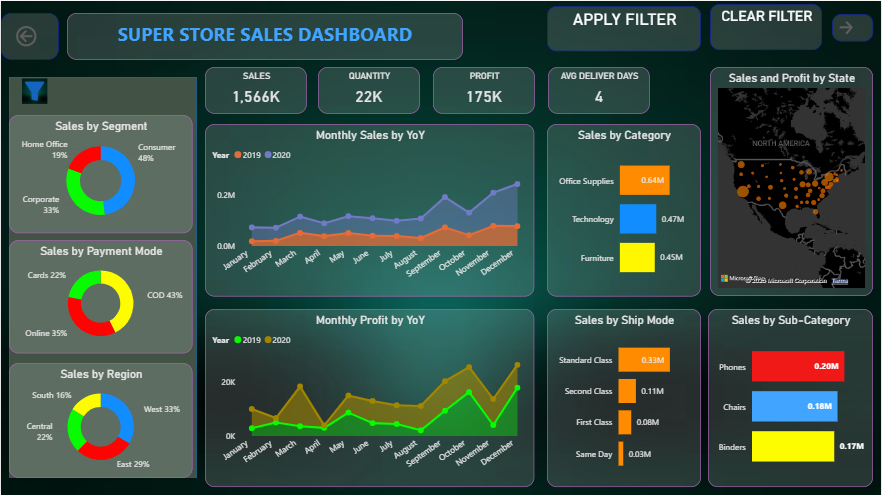

The page's visual inventory and layout, read from the dashboard file:
{"tool":"powerbi","page":{"name":"DETAIL SALES ANALYSE","canvas":[1280,720],"ordinal":2},"visuals":[{"type":"shape","title":"SHAPE FILTER","box":[11.7,110,273.3,583.3],"z":0,"group":"g1"},{"type":"clusteredBarChart","title":"Sales by Category","fields":{"Category":["SuperStore_Sales_Dataset.Category"],"Y":["Sum(SuperStore_Sales_Dataset.Sales)"]},"box":[794.7,178.7,223.7,251.4],"z":0},{"type":"slicer","title":"REGION","fields":{"Values":["SuperStore_Sales_Dataset.Region"]},"box":[23.4,165,248.3,175],"z":1000,"group":"g1"},{"type":"clusteredBarChart","title":"Sales by Sub-Category","fields":{"Category":["SuperStore_Sales_Dataset.Sub-Category"],"Y":["Sum(SuperStore_Sales_Dataset.Sales)"]},"box":[1028.6,447.5,239.7,258.6],"z":1000},{"type":"clusteredBarChart","title":"Sales by Ship Mode","fields":{"Category":["SuperStore_Sales_Dataset.Ship Mode"],"Y":["Sum(SuperStore_Sales_Dataset.Sales)"]},"box":[794.7,447.5,223.7,258.6],"z":2000},{"type":"slicer","title":"SUB-CATEGORY","fields":{"Values":["SuperStore_Sales_Dataset.Sub-Category"]},"box":[23.4,560,248.3,121.7],"z":2000,"group":"g1"},{"type":"slicer","title":"CATEGORY","fields":{"Values":["SuperStore_Sales_Dataset.Category"]},"box":[23.4,360,248.3,180],"z":3000,"group":"g1"},{"type":"stackedAreaChart","title":"Monthly Profit by YoY","fields":{"Category":["SuperStore_Sales_Dataset.Order Date.Variation.Date Hierarchy.Month","SuperStore_Sales_Dataset.Order Date.Variation.Date Hierarchy.Day"],"Series":["SuperStore_Sales_Dataset.Order Date.Variation.Date Hierarchy.Year"],"Y":["Sum(SuperStore_Sales_Dataset.Profit)"]},"box":[296.4,447.5,479.5,258.6],"z":3000},{"type":"image","title":"FILTER CLOSE BUTTON","box":[225,117.1,47.1,38.6],"z":4000,"group":"g1"},{"type":"stackedAreaChart","title":"Monthly Sales by YoY","fields":{"Y":["Sum(SuperStore_Sales_Dataset.Sales)"],"Category":["SuperStore_Sales_Dataset.Order Date.Variation.Date Hierarchy.Month","SuperStore_Sales_Dataset.Order Date.Variation.Date Hierarchy.Day"],"Series":["SuperStore_Sales_Dataset.Order Date.Variation.Date Hierarchy.Year"]},"box":[296.4,178.7,479.5,251.4],"z":4000},{"type":"map","title":"Sales and Profit by State","fields":{"Category":["SuperStore_Sales_Dataset.State"],"Size":["Sum(SuperStore_Sales_Dataset.Sales)"]},"box":[1031.7,96.7,236.7,333.3],"z":5000},{"type":"textbox","box":[96.5,18.1,575.9,67.8],"z":6000},{"type":"card","title":"SALES","fields":{"Values":["Sum(SuperStore_Sales_Dataset.Sales)"]},"box":[296.7,96.7,148.3,68.3],"z":7000},{"type":"card","title":"QUANTITY","fields":{"Values":["Sum(SuperStore_Sales_Dataset.Quantity)"]},"box":[461.7,96.7,148.3,68.3],"z":8000},{"type":"card","title":"PROFIT","fields":{"Values":["Sum(SuperStore_Sales_Dataset.Profit)"]},"box":[628.3,96.7,148.3,68.3],"z":9000},{"type":"card","title":"AVG DELIVER DAYS","fields":{"Values":["Avg(SuperStore_Sales_Dataset.AVG DELIVERY DATE)"]},"box":[795,96.7,148.3,68.3],"z":10000},{"type":"actionButton","box":[0,18.1,84.4,67.8],"z":11000},{"type":"actionButton","box":[1208.3,18.3,60,40],"z":12000},{"type":"actionButton","title":"CLEAR FILTER","box":[1031.7,5,163.3,66.7],"z":13000},{"type":"group","id":"g1","title":"FILTER PANEL","box":[11.7,110,273.3,583.3],"z":15000},{"type":"actionButton","title":"APPLY FILTER","box":[794.3,7.1,224.3,65.7],"z":16000}]}

Visuals, with their boxes in screenshot pixels (x1, y1, x2, y2), scaled from the page's 1280x720 canvas onto the 882x495 screenshot:
"SHAPE FILTER" shape: locate(8, 76, 196, 477)
"Sales by Category" clusteredBarChart: locate(548, 123, 702, 296)
"REGION" slicer: locate(16, 113, 187, 234)
"Sales by Sub-Category" clusteredBarChart: locate(709, 308, 874, 485)
"Sales by Ship Mode" clusteredBarChart: locate(548, 308, 702, 485)
"SUB-CATEGORY" slicer: locate(16, 385, 187, 469)
"CATEGORY" slicer: locate(16, 248, 187, 371)
"Monthly Profit by YoY" stackedAreaChart: locate(204, 308, 535, 485)
"FILTER CLOSE BUTTON" image: locate(155, 81, 187, 107)
"Monthly Sales by YoY" stackedAreaChart: locate(204, 123, 535, 296)
"Sales and Profit by State" map: locate(711, 66, 874, 296)
textbox: locate(66, 12, 463, 59)
"SALES" card: locate(204, 66, 307, 113)
"QUANTITY" card: locate(318, 66, 420, 113)
"PROFIT" card: locate(433, 66, 535, 113)
"AVG DELIVER DAYS" card: locate(548, 66, 650, 113)
actionButton: locate(0, 12, 58, 59)
actionButton: locate(833, 13, 874, 40)
"CLEAR FILTER" actionButton: locate(711, 3, 823, 49)
"FILTER PANEL" group: locate(8, 76, 196, 477)
"APPLY FILTER" actionButton: locate(547, 5, 702, 50)
